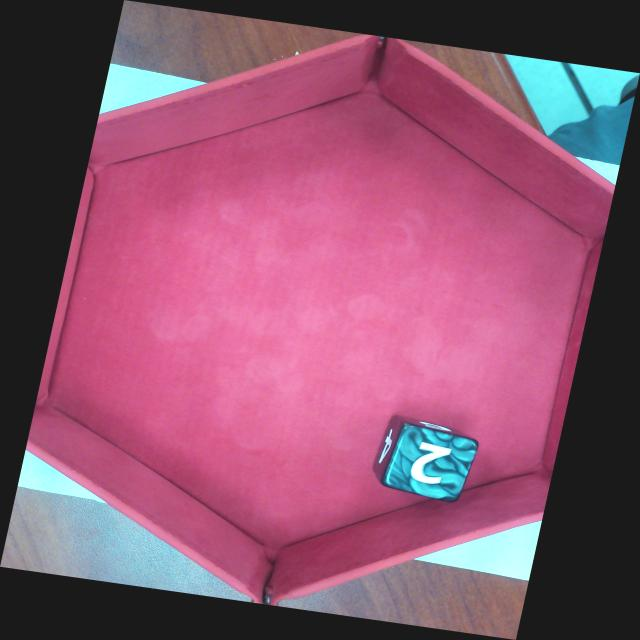dice: (379, 421, 481, 505)
